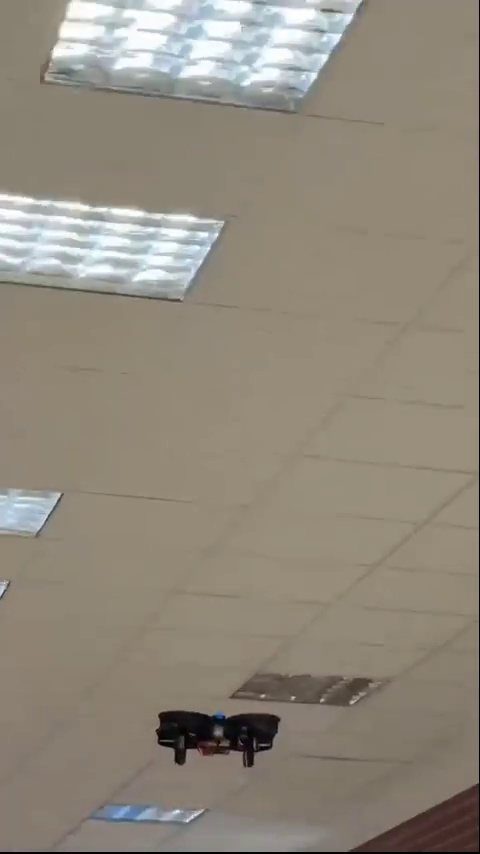drone: (150, 706, 280, 764)
